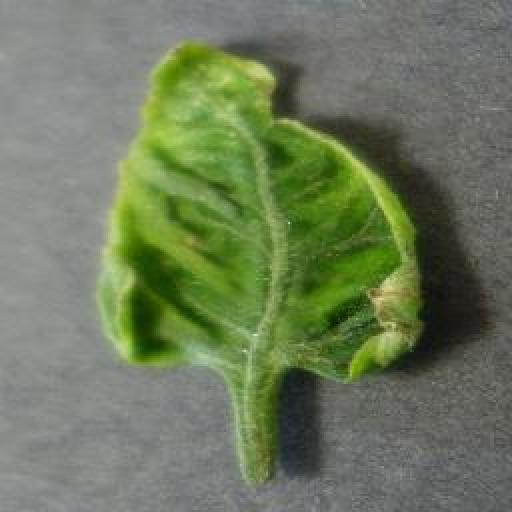disease_tomato: (98, 36, 425, 389)
